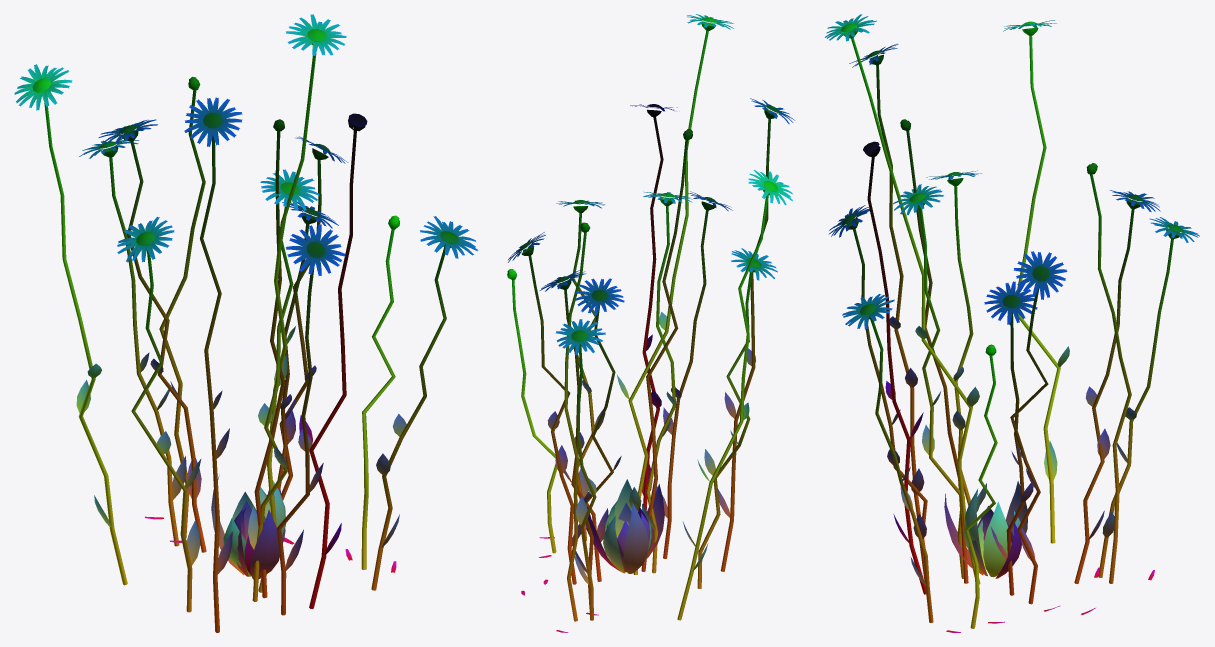
File: SM_Flower_Daisy_C.fbx
3 renders of one model, left to right at view 1: azimuth 30°, elevation 25°; view 2: azimuth 150°, elevation 25°; view 3: azimuth 270°, elevation 25°, orthographic. The views are drawn at different scales.
Parts seen in each view (by area): view 1: SM_Flower_Daisy_C; view 2: SM_Flower_Daisy_C; view 3: SM_Flower_Daisy_C.
Part boxes in pixels (x1,y1,x2,y2): SM_Flower_Daisy_C: [14, 14, 478, 632]; SM_Flower_Daisy_C: [507, 14, 795, 632]; SM_Flower_Daisy_C: [825, 14, 1199, 632].
Size of the model in its own units: 0.3805 by 0.6142 by 0.3756.
